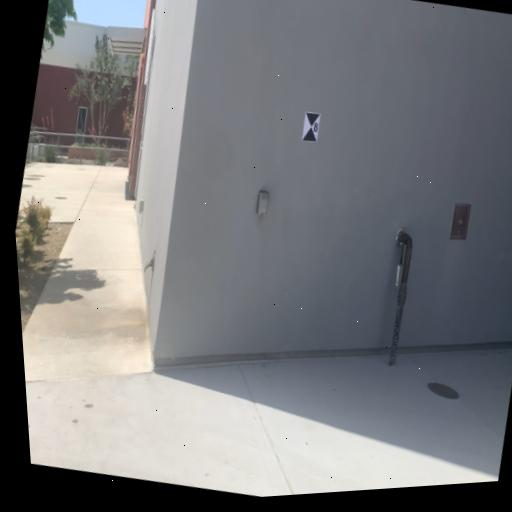target8: (299, 109, 322, 144)
